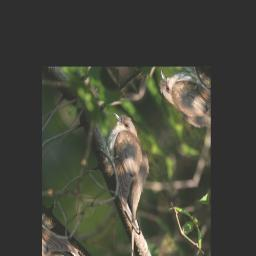Cuckoo: (60, 103, 193, 256)
